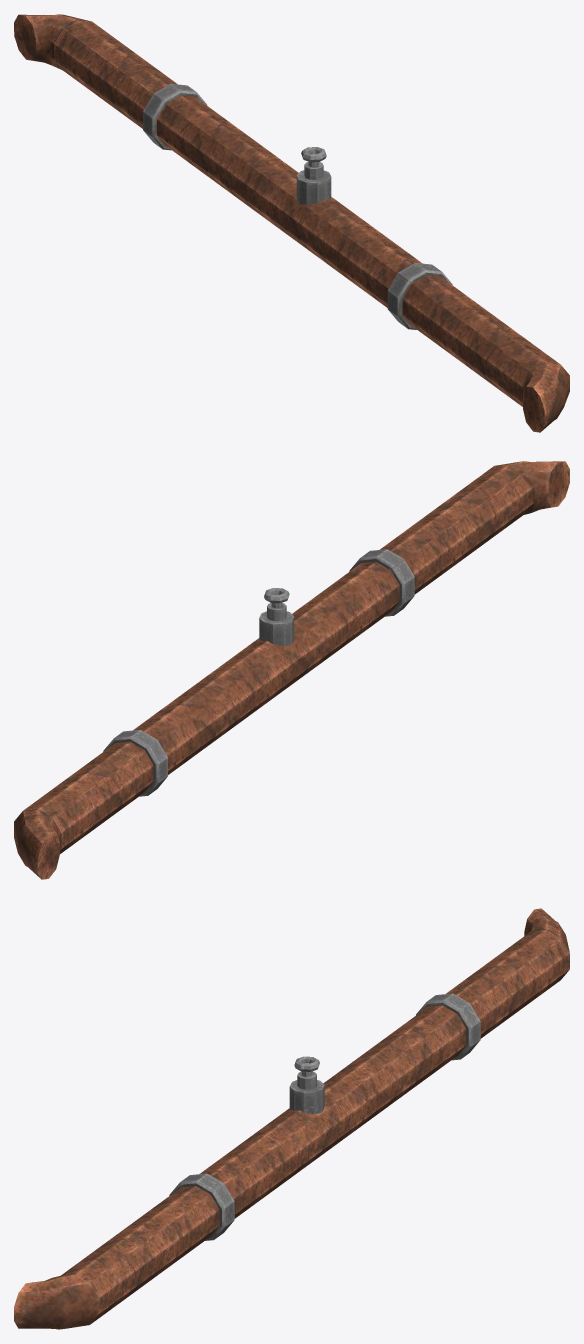
File: Cano4_Final.fbx
3 renders of one model, top to bottom at view 1: azimuth 30°, elevation 25°; view 2: azimuth 150°, elevation 25°; view 3: azimuth 330°, elevation 25°, orthographic.
Parts seen in each view (by area): view 1: pTorus5; view 2: pTorus5; view 3: pTorus5.
Boxes of the visible parts, box(x1,y1,x2,y2) form: pTorus5: box(14, 14, 569, 432); pTorus5: box(14, 461, 569, 879); pTorus5: box(14, 908, 569, 1329).
Size of the model in its own units: 0.795 by 1.27 by 12.24.
1 material, 1 textured.
